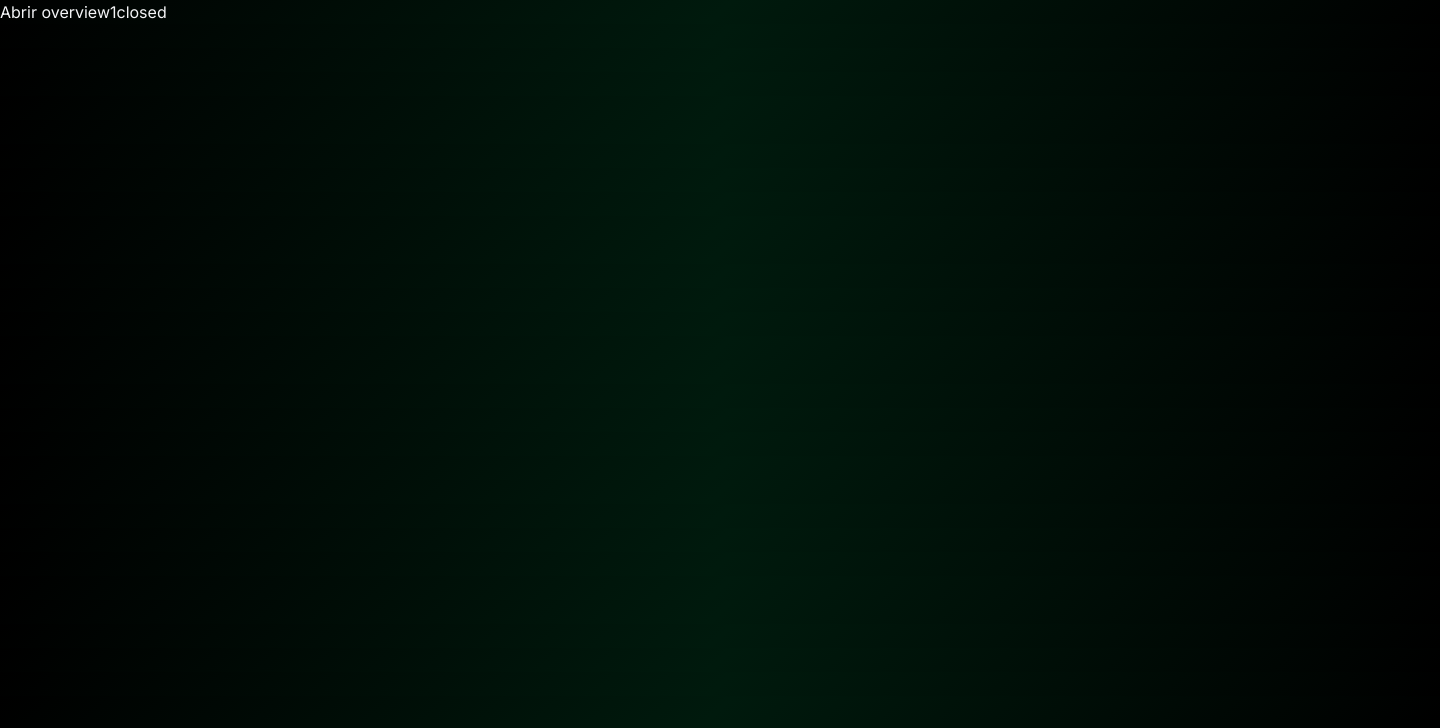
Test: Overview › selects a topic by clicking a card
The width and height of the screenshot is (1440, 728).
Type keys "[Escape]"
(page scrolled)
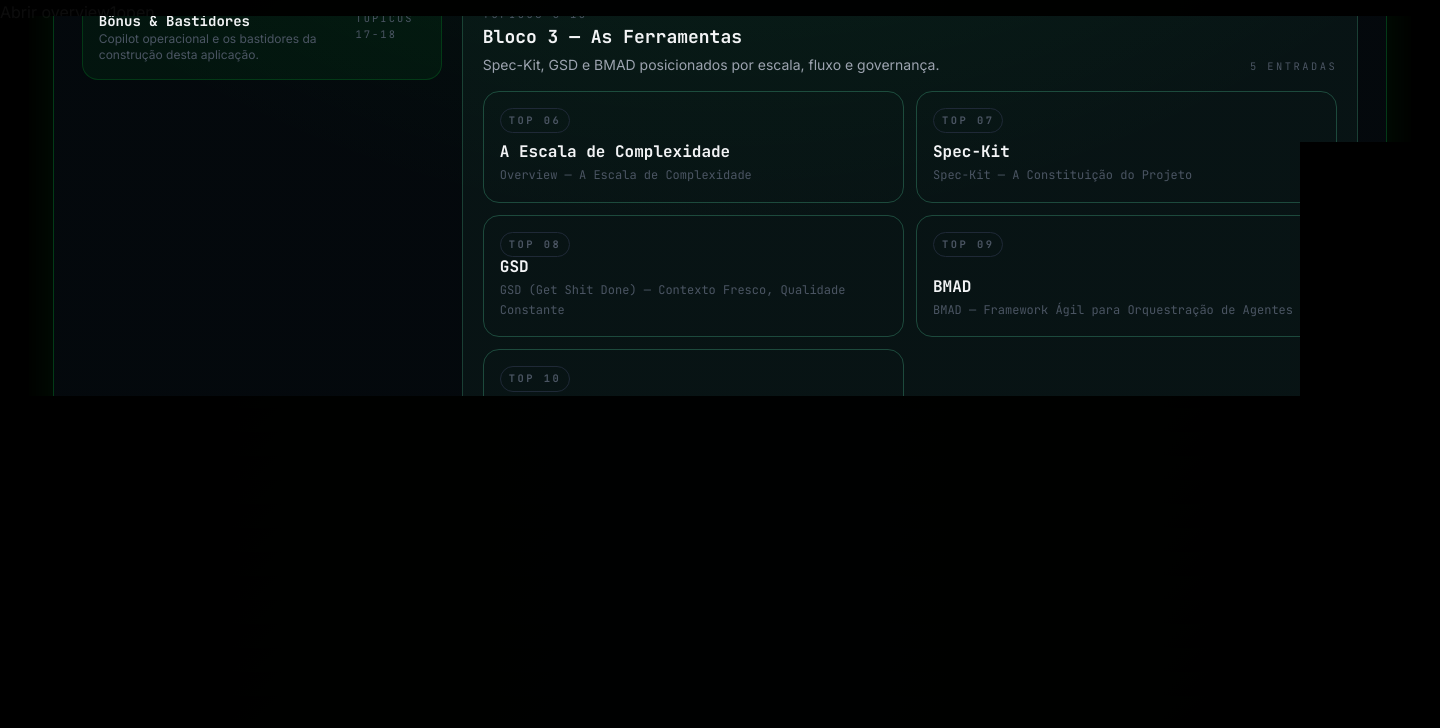
expect the text with test id "overview" reads "open": met, box top-left (116, 2), bottom-right (155, 22)
Click the button "10".
click(535, 379)  # box top-left (483, 349), bottom-right (904, 461)
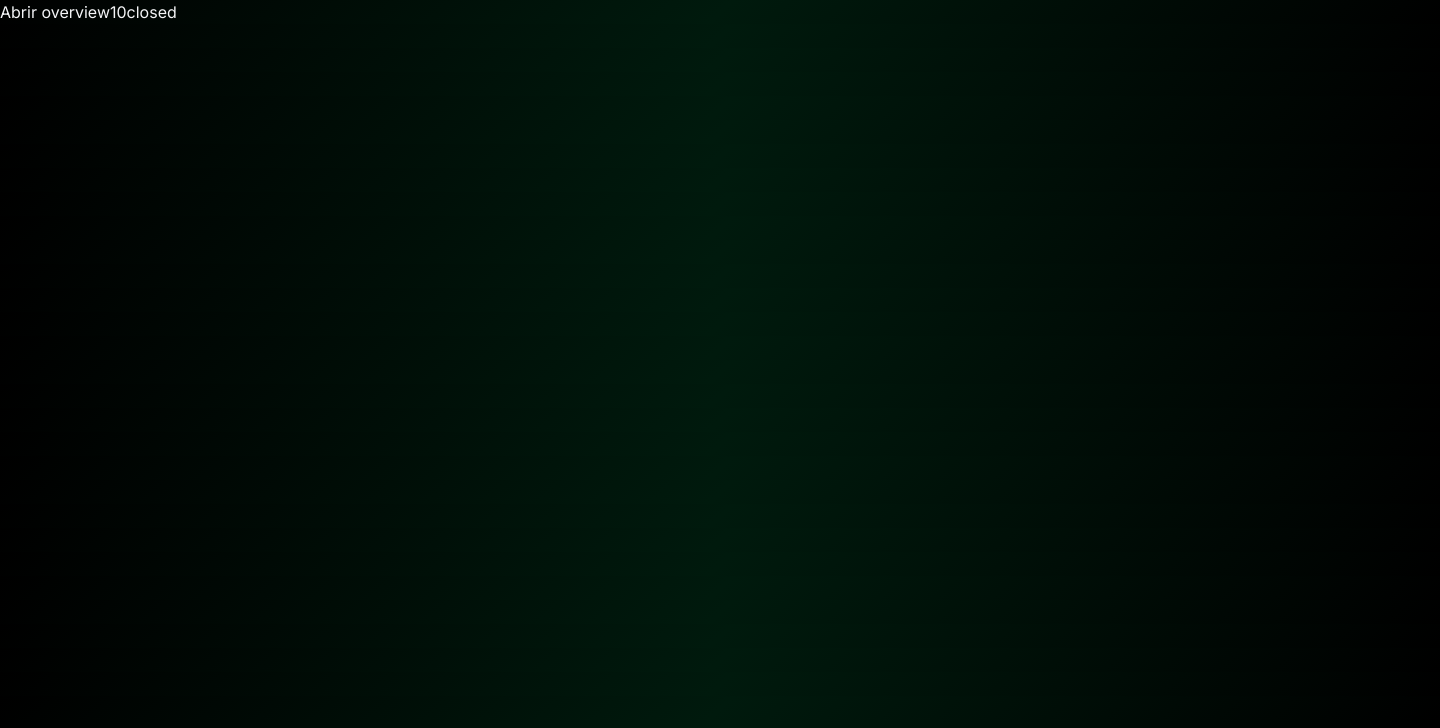
expect the text with test id "overview" reads "closed": met, box top-left (127, 2), bottom-right (177, 22)
expect the text with test id "index" reads "10": met, box top-left (110, 2), bottom-right (127, 22)
